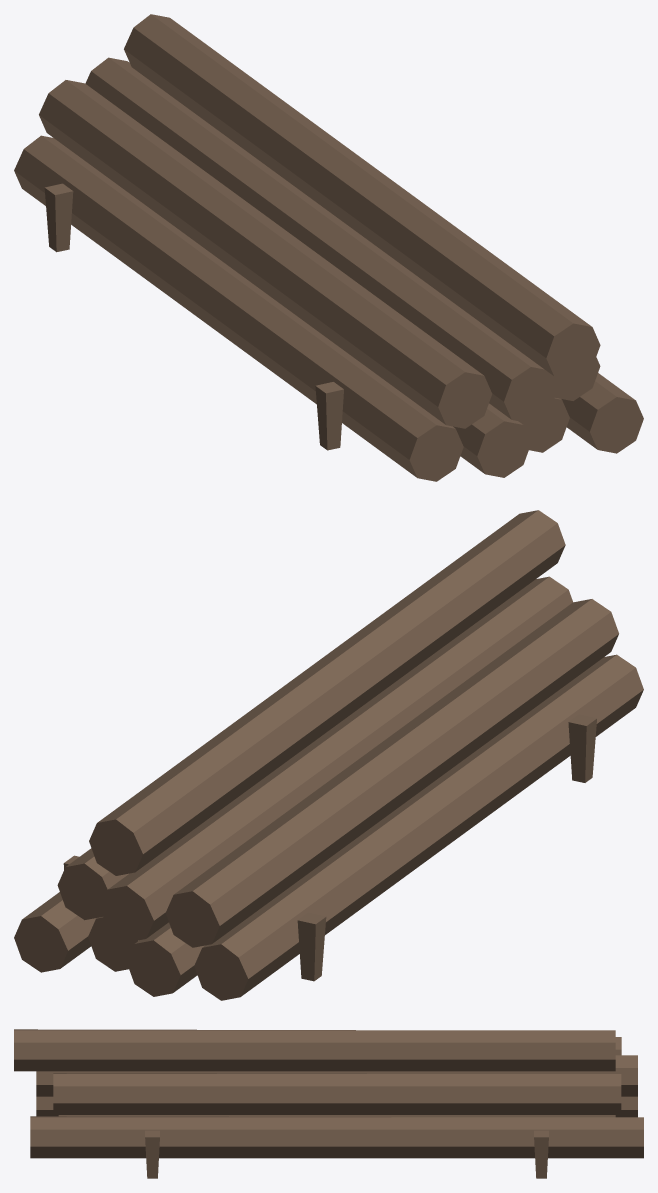
The model's file is Logs_2.fbx.
The picture shows the model from 3 angles, top to bottom: view 1: azimuth 30°, elevation 25°; view 2: azimuth 150°, elevation 25°; view 3: azimuth 270°, elevation 25°; orthographic projection. The views are drawn at different scales.
Visible parts, largest first — view 1: Logs_2; view 2: Logs_2; view 3: Logs_2.
Boxes of the visible parts, x1,y1,x2,y2 form: Logs_2: [14, 14, 643, 481]; Logs_2: [14, 510, 643, 1000]; Logs_2: [14, 1029, 643, 1178].
Bounding box in the file's own units: 131 × 398 × 79.91.
